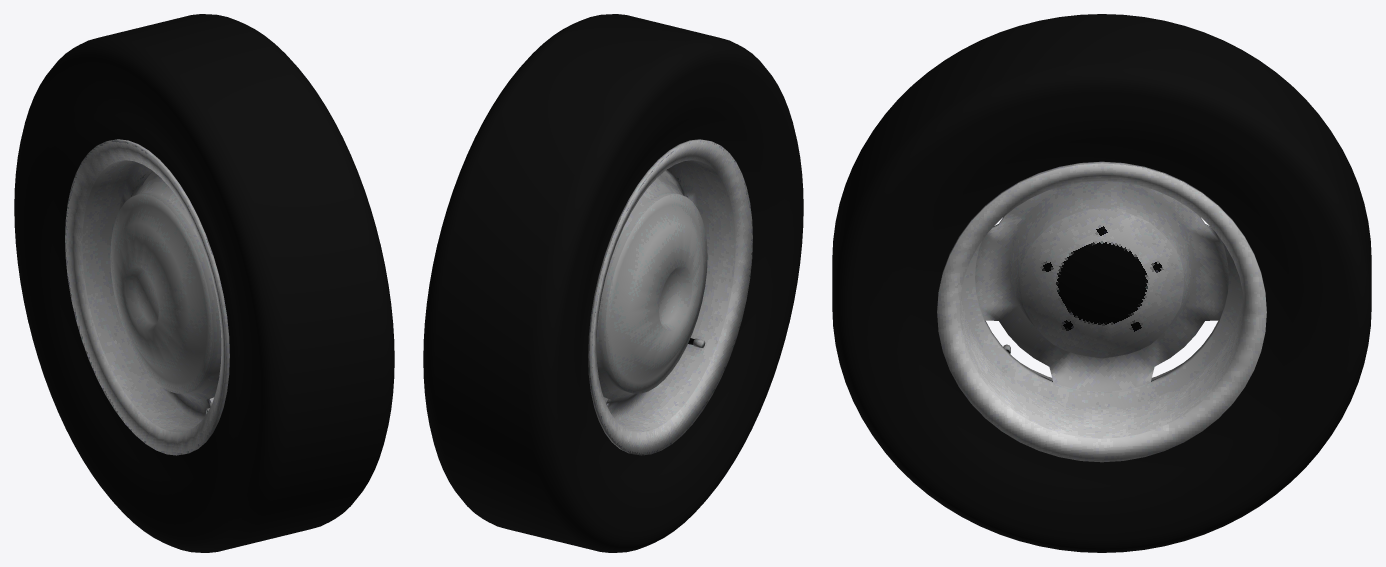
The model's file is gaz_24_24_volga_wheel_rear_left.glb.
3 views of the same model, side by side, from view 1: azimuth 30°, elevation 25°; view 2: azimuth 150°, elevation 25°; view 3: azimuth 270°, elevation 25° (orthographic). The views are drawn at different scales.
Parts seen in each view (by area): view 1: GAZ24_Wheel_rear_left; view 2: GAZ24_Wheel_rear_left; view 3: GAZ24_Wheel_rear_left.
Boxes of the visible parts, left/top/right/bottom form: GAZ24_Wheel_rear_left: left=14, top=14, right=394, bottom=552; GAZ24_Wheel_rear_left: left=423, top=14, right=803, bottom=552; GAZ24_Wheel_rear_left: left=832, top=14, right=1371, bottom=552.
Size of the model in its own units: 0.185 by 0.6516 by 0.6516.
Materials: 1 (1 with a texture image).
